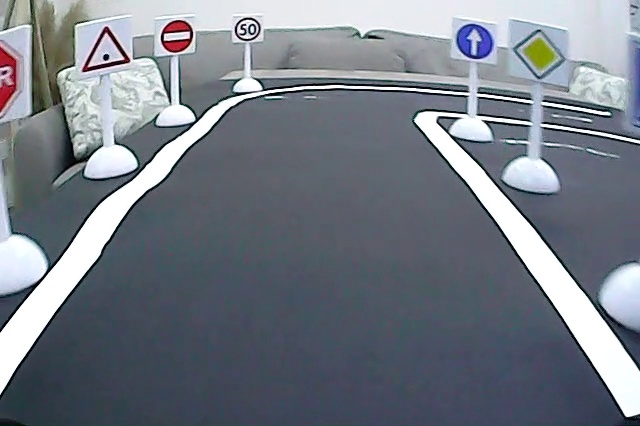do not enter: (159, 18, 195, 55)
green light: (79, 22, 133, 74)
speed limit 50: (235, 16, 262, 43)
